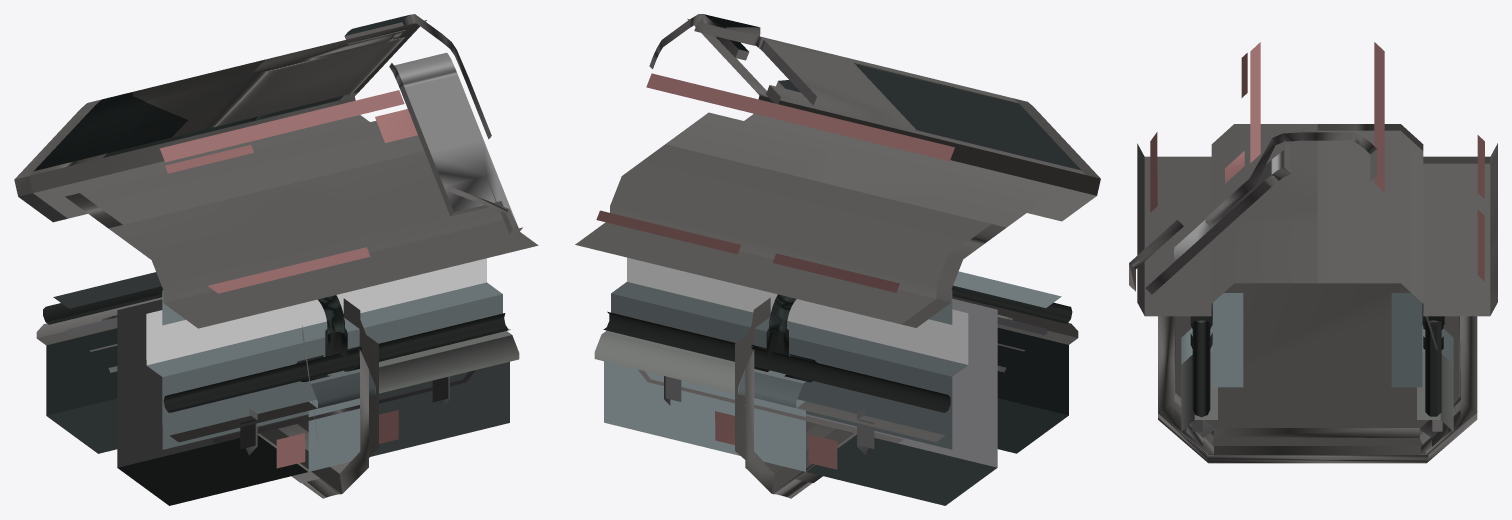
File: addon_gen_sml_nose_a_strt_40m_b.glb
The picture shows the model from 3 angles, left to right: view 1: azimuth 30°, elevation 25°; view 2: azimuth 150°, elevation 25°; view 3: azimuth 270°, elevation 25°; orthographic projection. The views are drawn at different scales.
Bounding box in the file's own units: 40.07 × 43.66 × 39.1.
